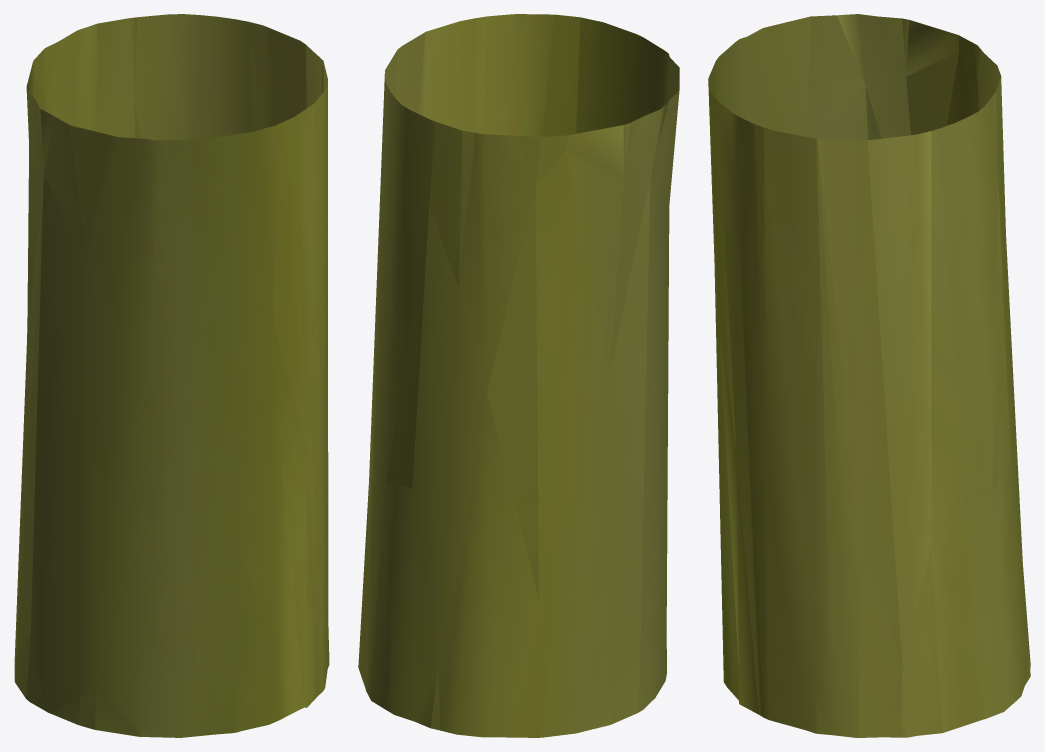
File: sunflower-new-stem-0.glb
3 views of the same model, side by side, from view 1: azimuth 30°, elevation 25°; view 2: azimuth 150°, elevation 25°; view 3: azimuth 270°, elevation 25° (orthographic). The views are drawn at different scales.
Parts seen in each view (by area): view 1: StemSample_0; view 2: StemSample_0; view 3: StemSample_0.
Boxes of the visible parts, x1,y1,x2,y2 form: StemSample_0: (14, 14, 329, 737); StemSample_0: (358, 14, 679, 737); StemSample_0: (708, 14, 1030, 737).
Bounding box in the file's own units: 0.0574 × 0.12 × 0.0593.
Materials: 1 (1 with a texture image).
